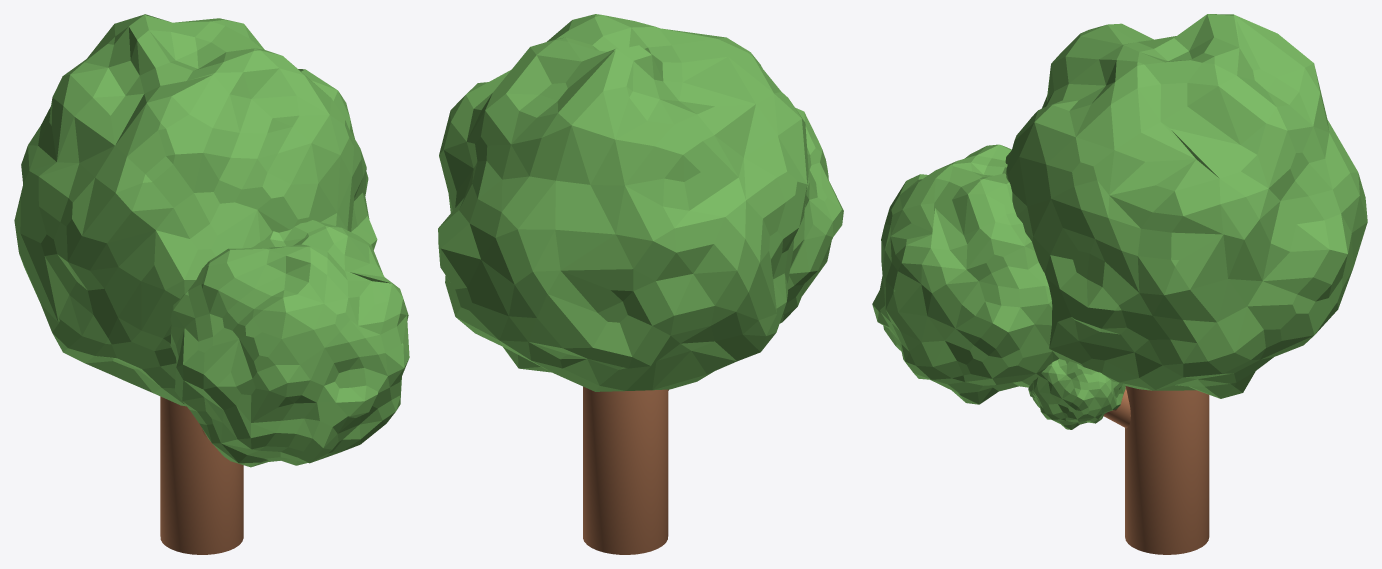
Rendered from Tree_1.fbx.
3 renders of one model, left to right at view 1: azimuth 30°, elevation 25°; view 2: azimuth 150°, elevation 25°; view 3: azimuth 270°, elevation 25°, orthographic. The views are drawn at different scales.
Visible parts, largest first — view 1: Icosphere.019, Icosphere.020, Cylinder; view 2: Icosphere.019, Cylinder, Icosphere.020; view 3: Icosphere.019, Icosphere.020, Cylinder, Icosphere.021.
Part boxes in pixels (x1,y1,x2,y2): Icosphere.019: (14, 14, 377, 406); Icosphere.020: (170, 220, 409, 467); Cylinder: (160, 396, 243, 554); Icosphere.019: (438, 14, 808, 391); Cylinder: (583, 386, 668, 554); Icosphere.020: (779, 108, 843, 323); Icosphere.019: (1005, 14, 1367, 398); Icosphere.020: (872, 144, 1058, 404); Cylinder: (1125, 386, 1209, 554); Icosphere.021: (1028, 358, 1125, 429).
Bounding box in the file's own units: 1811 × 2720 × 2391.
